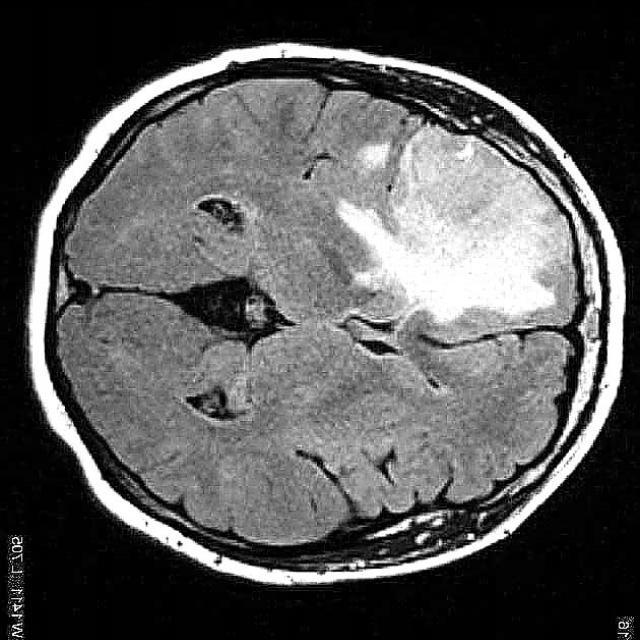tumor: (338, 119, 579, 328)
